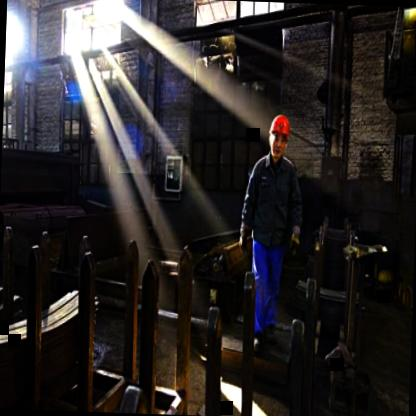helmet: (266, 106, 295, 162)
